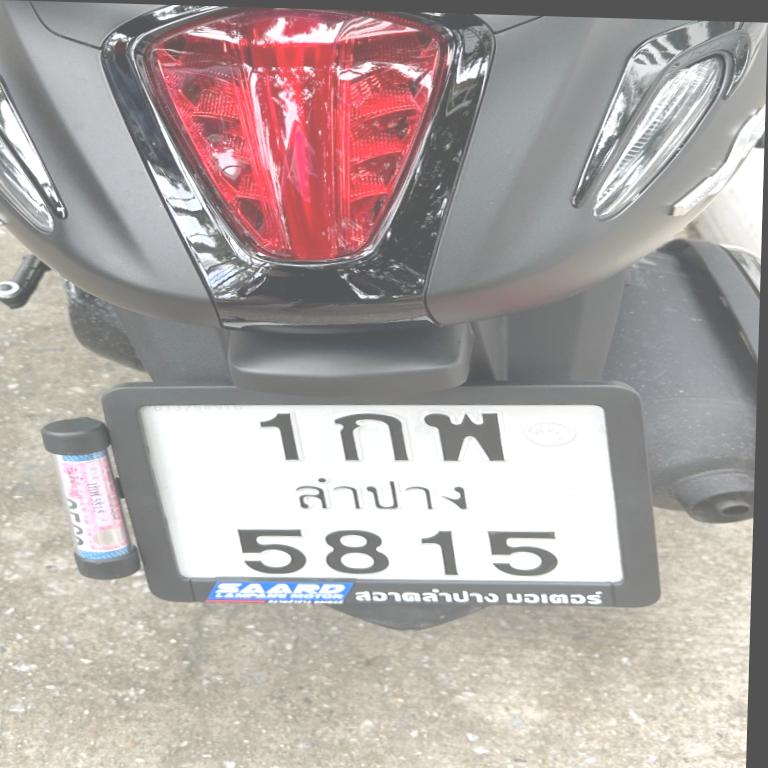license plate: (89, 367, 674, 616)
